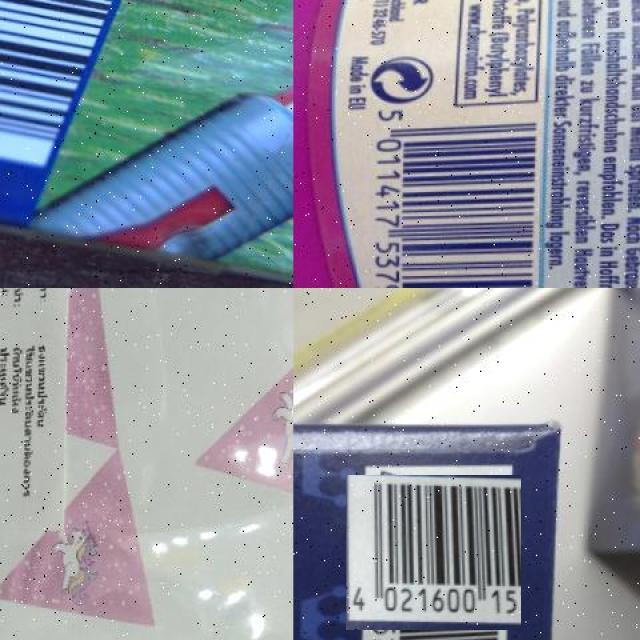Barcode: (0, 0, 193, 176), (358, 111, 542, 288), (351, 469, 516, 635)
